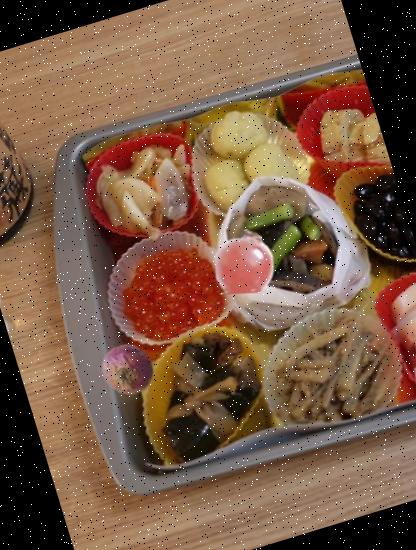Onion: (95, 336, 162, 403)
Redcurrant: (204, 220, 284, 300)
